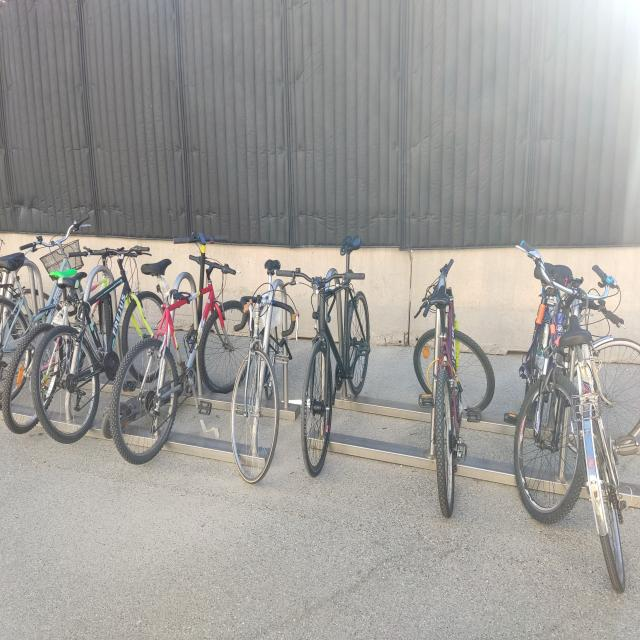Bicycle: (113, 256, 251, 470), (38, 236, 159, 452), (4, 240, 112, 445), (414, 239, 489, 505), (0, 190, 98, 382), (297, 230, 372, 477), (518, 247, 585, 523), (578, 288, 640, 586), (227, 262, 306, 489)
